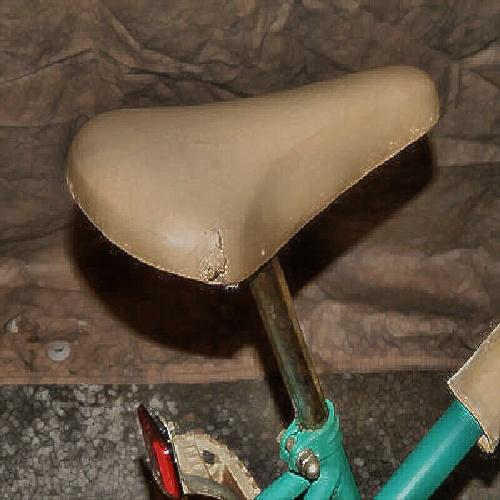bicycle: (71, 78, 473, 457)
